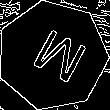M_SW: (20, 22, 85, 89)
